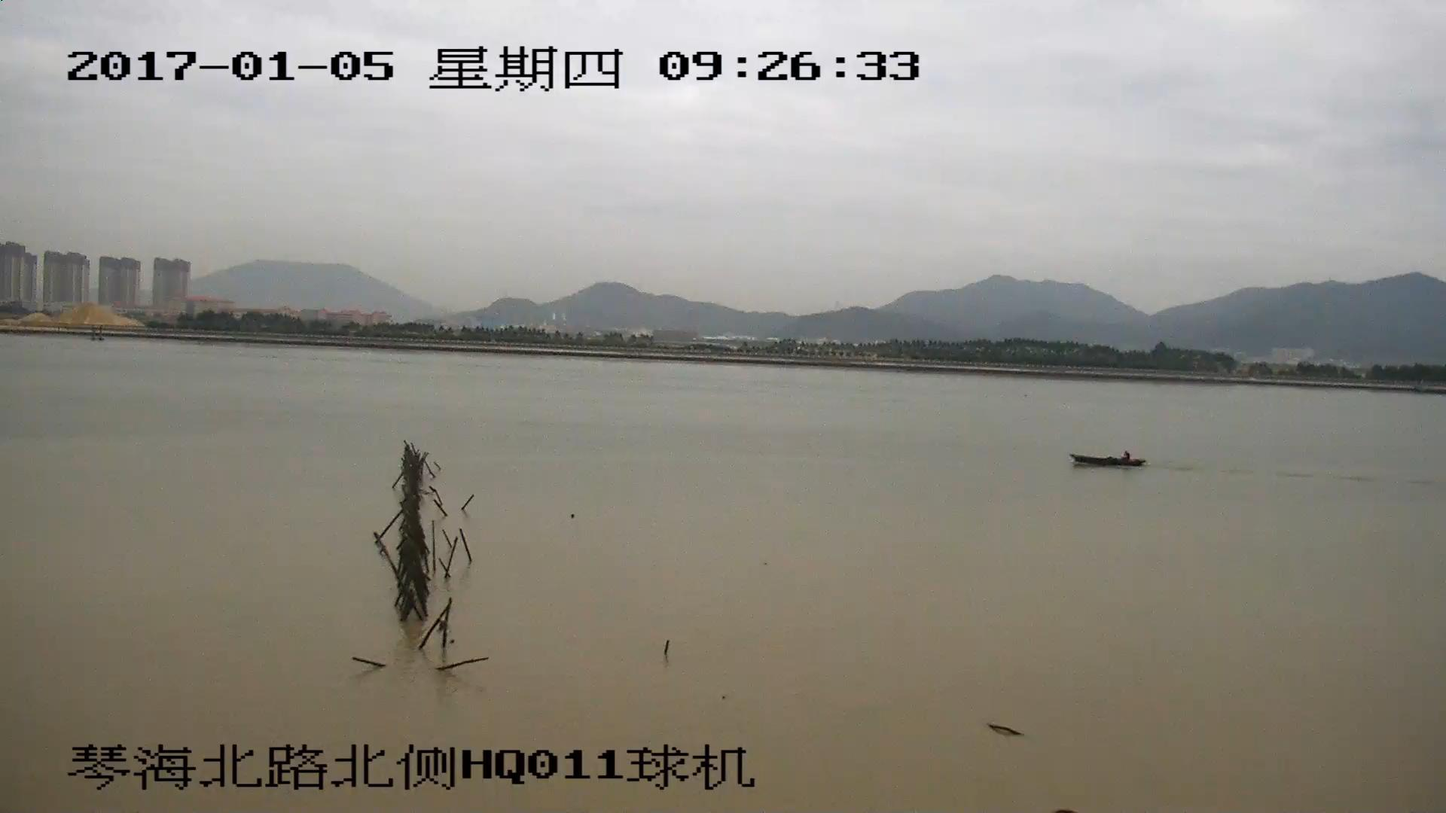fishing boat: (1072, 453, 1144, 467)
